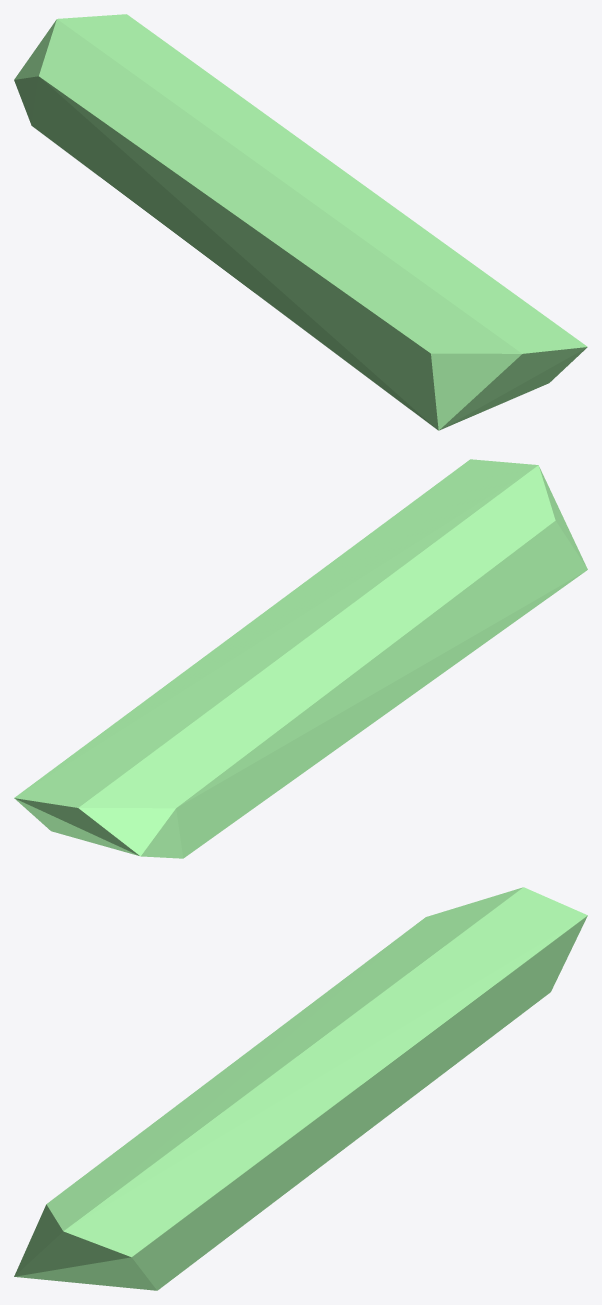
File: UMIRobot_UMIRobot_link_4_convex_coll_9.dae
3 renders of one model, top to bottom at view 1: azimuth 30°, elevation 25°; view 2: azimuth 150°, elevation 25°; view 3: azimuth 330°, elevation 25°, orthographic.
Parts seen in each view (by area): view 1: node; view 2: node; view 3: node.
Part boxes in pixels (<box>): node: <box>14,14,587,430</box>; node: <box>14,459,587,858</box>; node: <box>14,887,587,1290</box>.
Size of the model in its own units: 0.007 by 0.00363 by 0.0405.
